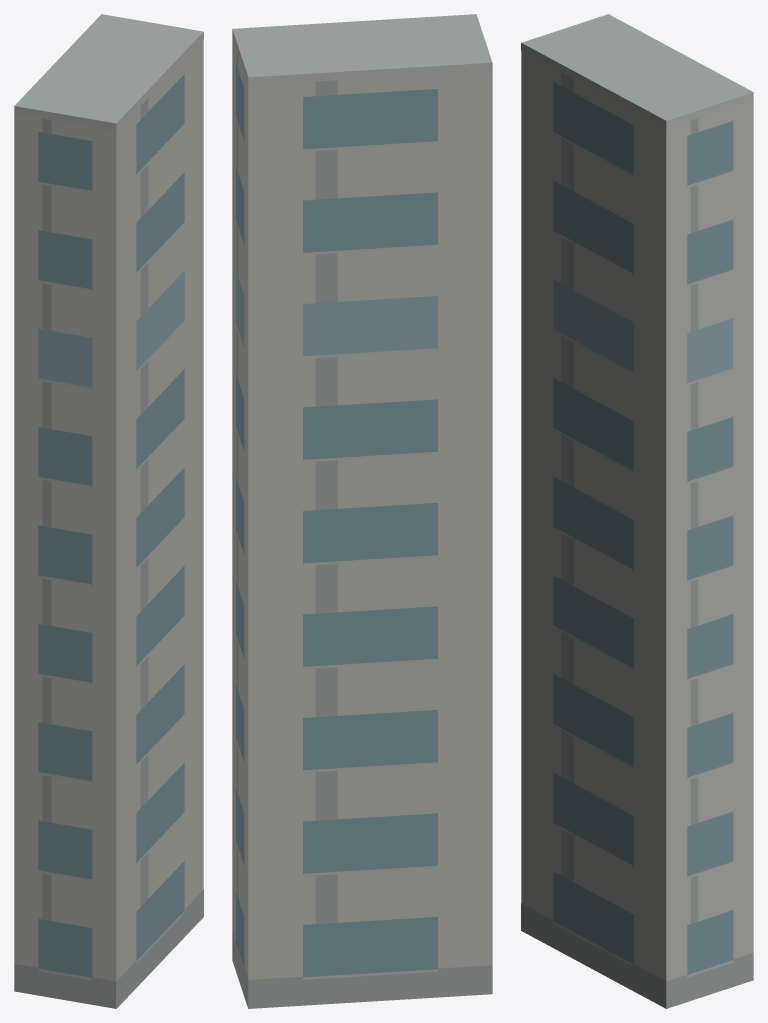
File: survey-upis-32696939.glb
3 renders of one model, left to right at view 1: azimuth 30°, elevation 25°; view 2: azimuth 150°, elevation 25°; view 3: azimuth 270°, elevation 25°, orthographic. The views are drawn at different scales.
Parts seen in each view (by area): view 1: survey-upis-32696939.tmp; view 2: survey-upis-32696939.tmp; view 3: survey-upis-32696939.tmp.
Boxes of the visible parts, x1=… form: survey-upis-32696939.tmp: x1=14, y1=14, x2=203, y2=1008; survey-upis-32696939.tmp: x1=232, y1=14, x2=492, y2=1008; survey-upis-32696939.tmp: x1=521, y1=14, x2=753, y2=1008.
Bounding box in the file's own units: 7.09 × 27.45 × 6.52.
